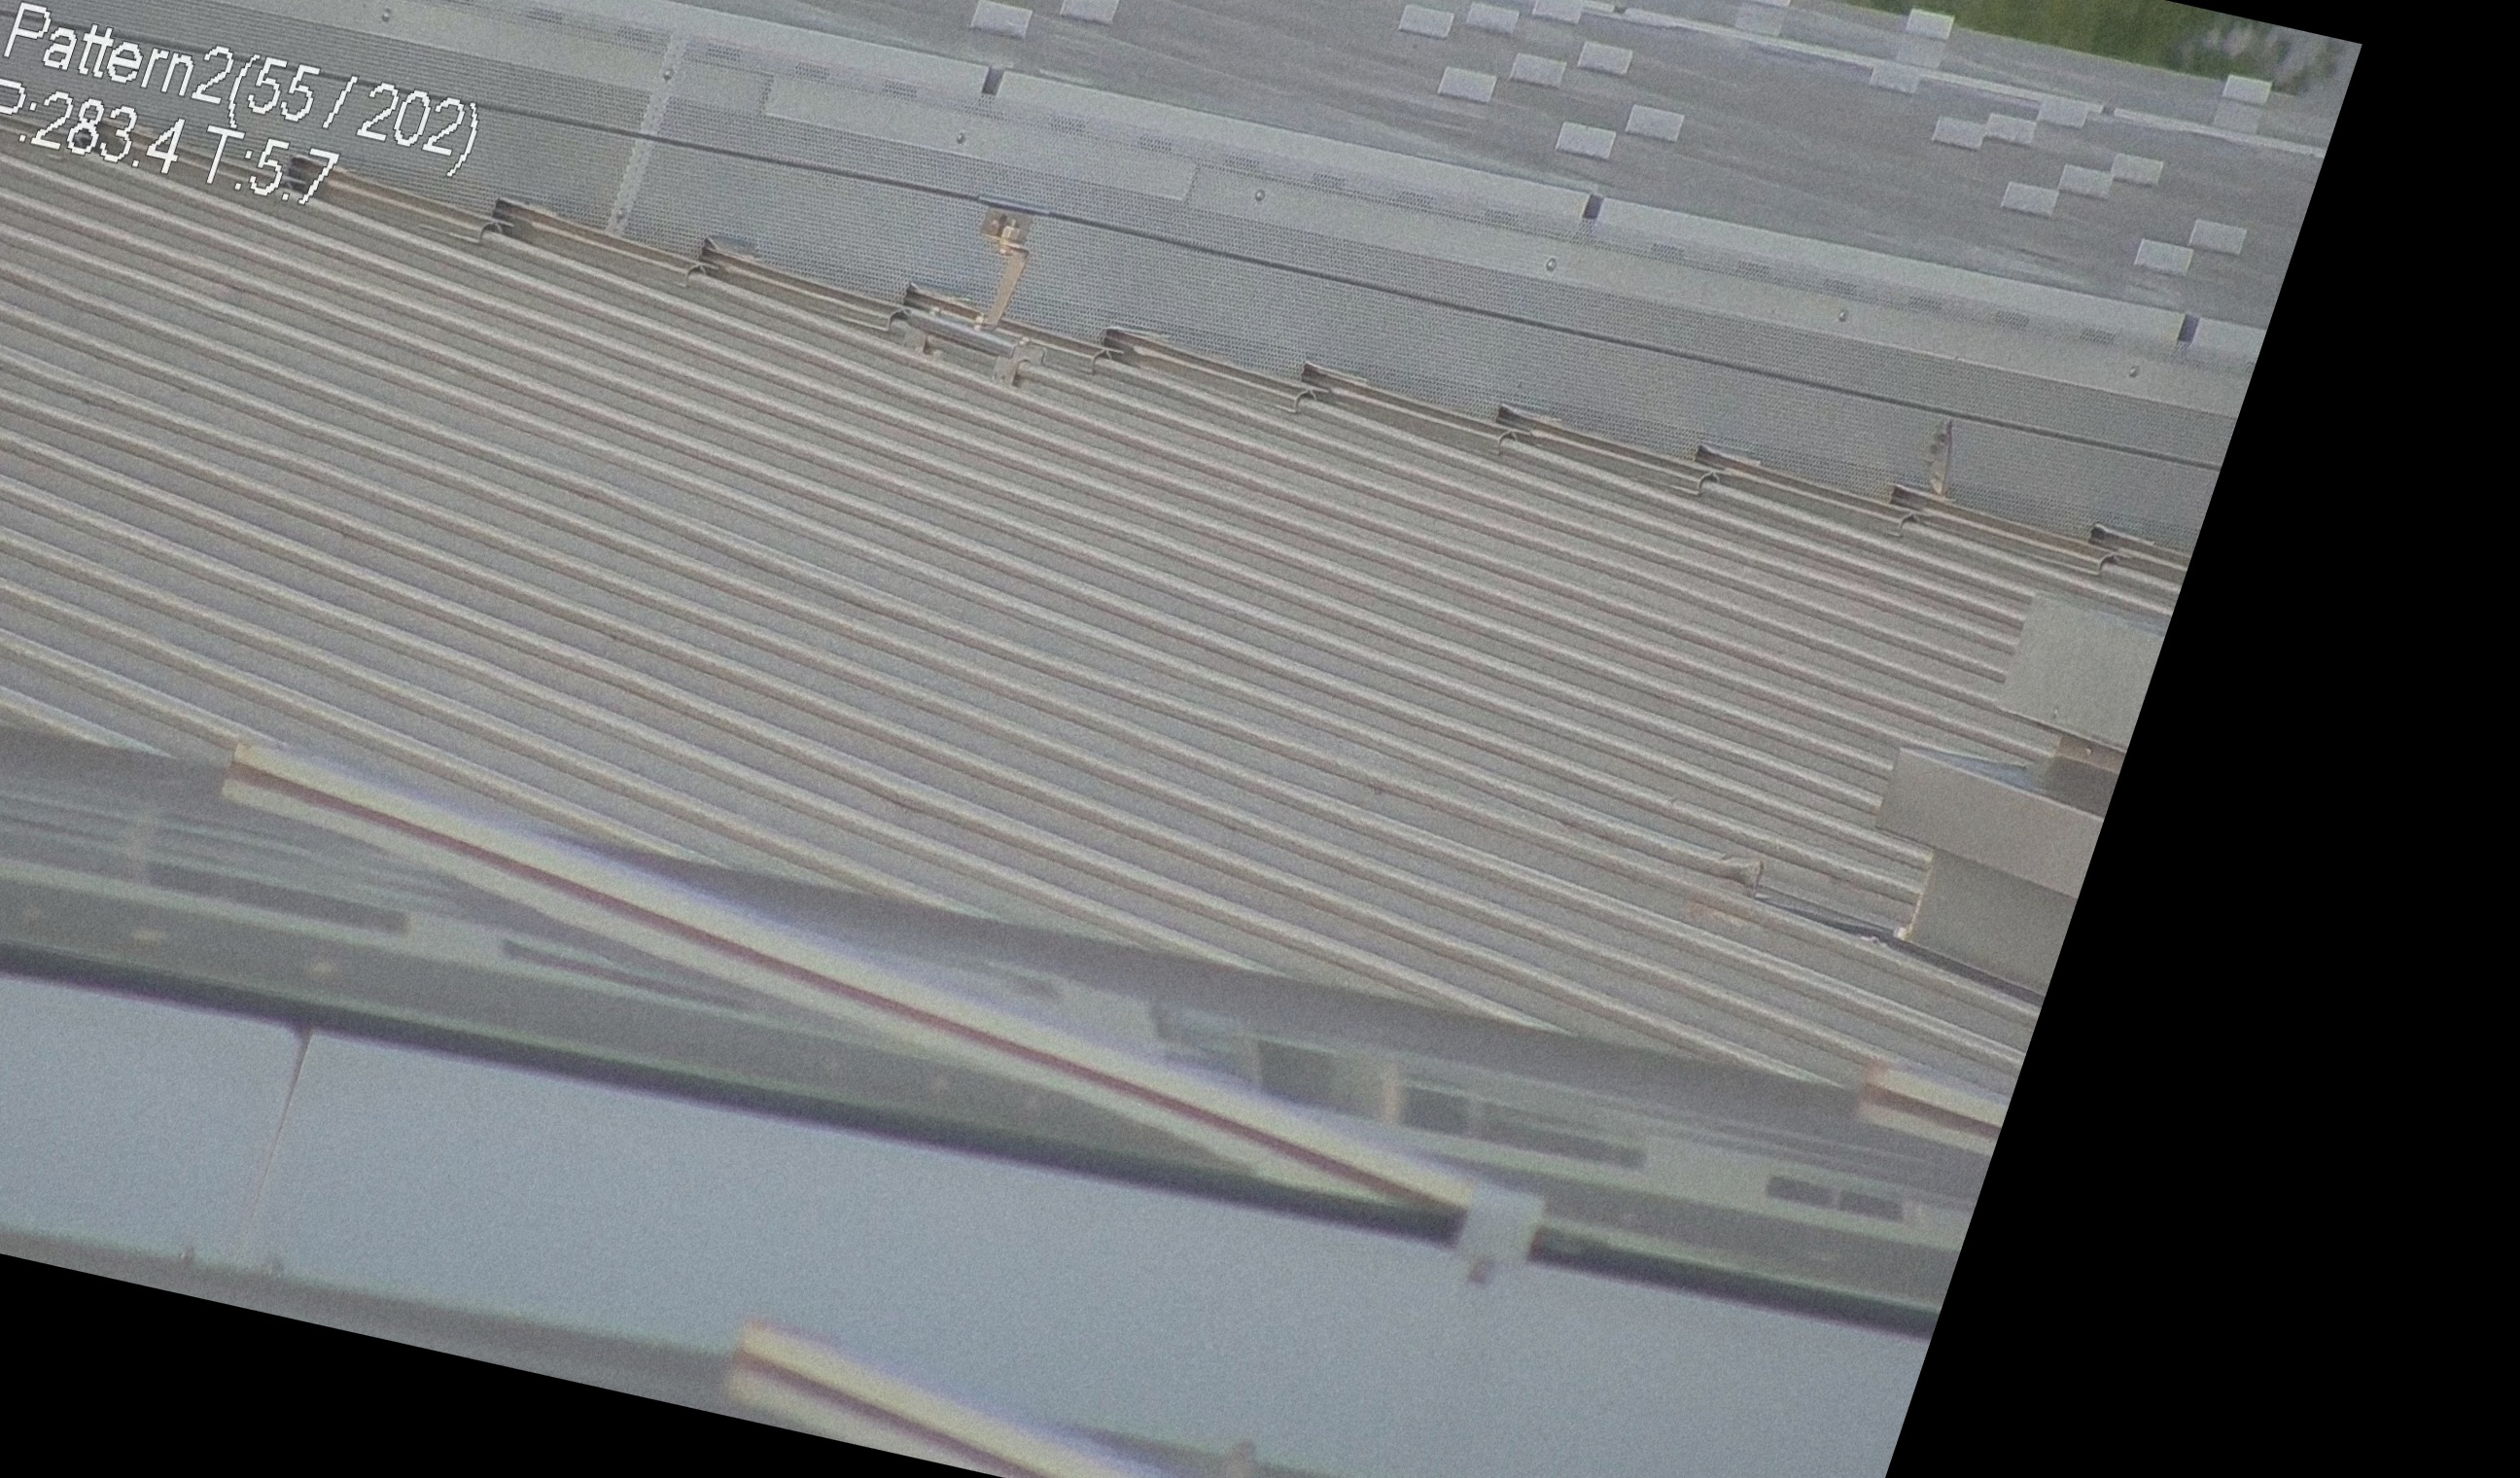Other: (1897, 392, 1992, 528)
